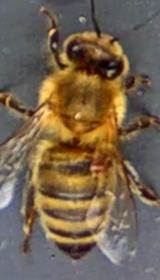varroa_mite: (80, 150, 120, 179)
